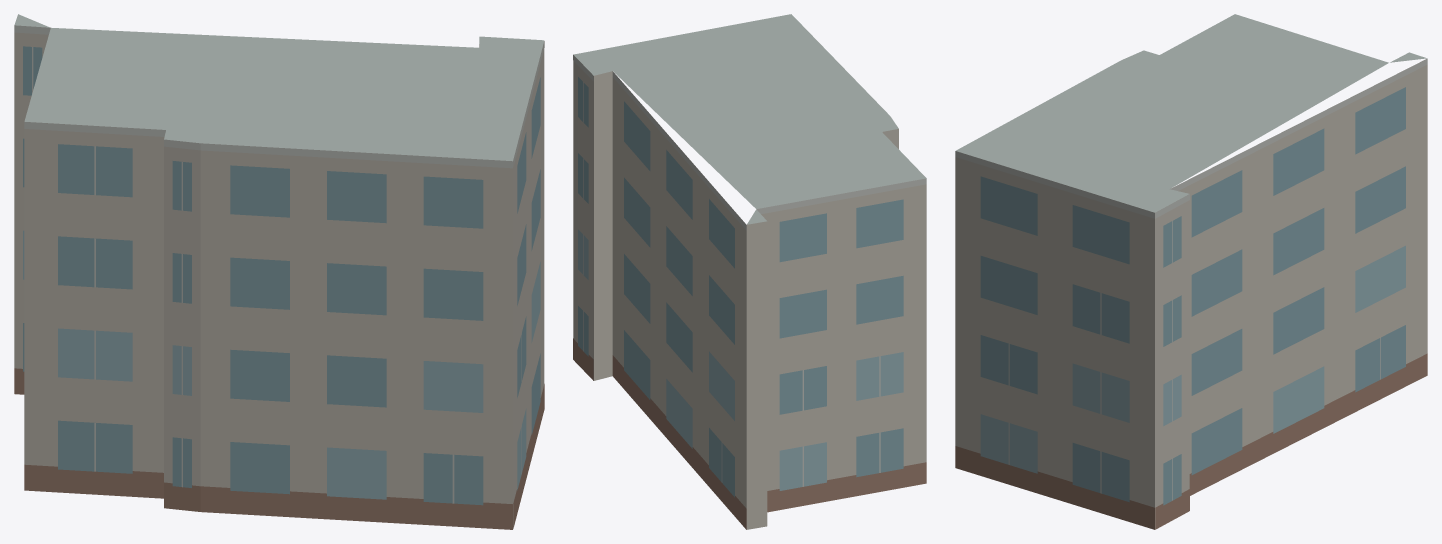
The model's file is survey-upis-32738534.glb.
The picture shows the model from 3 angles, left to right: view 1: azimuth 30°, elevation 25°; view 2: azimuth 150°, elevation 25°; view 3: azimuth 270°, elevation 25°; orthographic projection. The views are drawn at different scales.
Parts seen in each view (by area): view 1: survey-upis-32738534.tmp; view 2: survey-upis-32738534.tmp; view 3: survey-upis-32738534.tmp.
Boxes of the visible parts, bbox=[...] form: survey-upis-32738534.tmp: bbox=[14, 14, 544, 529]; survey-upis-32738534.tmp: bbox=[573, 14, 926, 529]; survey-upis-32738534.tmp: bbox=[955, 14, 1427, 529].
Size of the model in its own units: 16.95 by 12.6 by 17.01.
